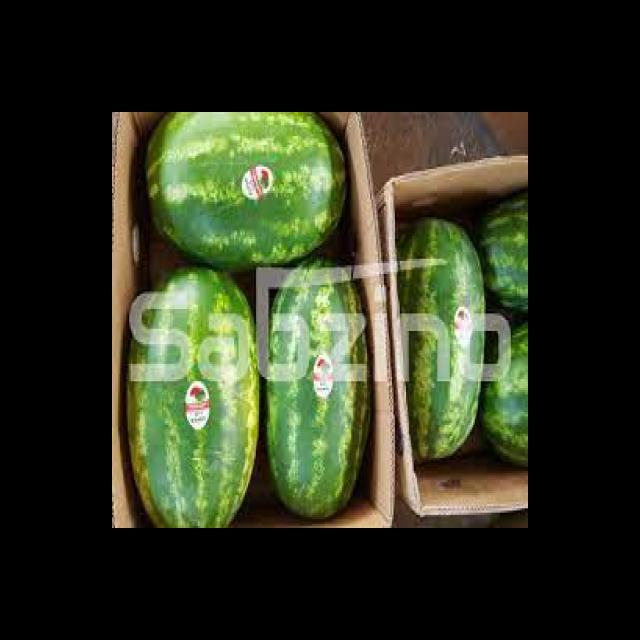watermelon: (126, 263, 262, 528), (144, 112, 348, 270), (264, 256, 370, 519), (397, 217, 486, 460), (480, 321, 528, 467), (475, 194, 528, 322)
